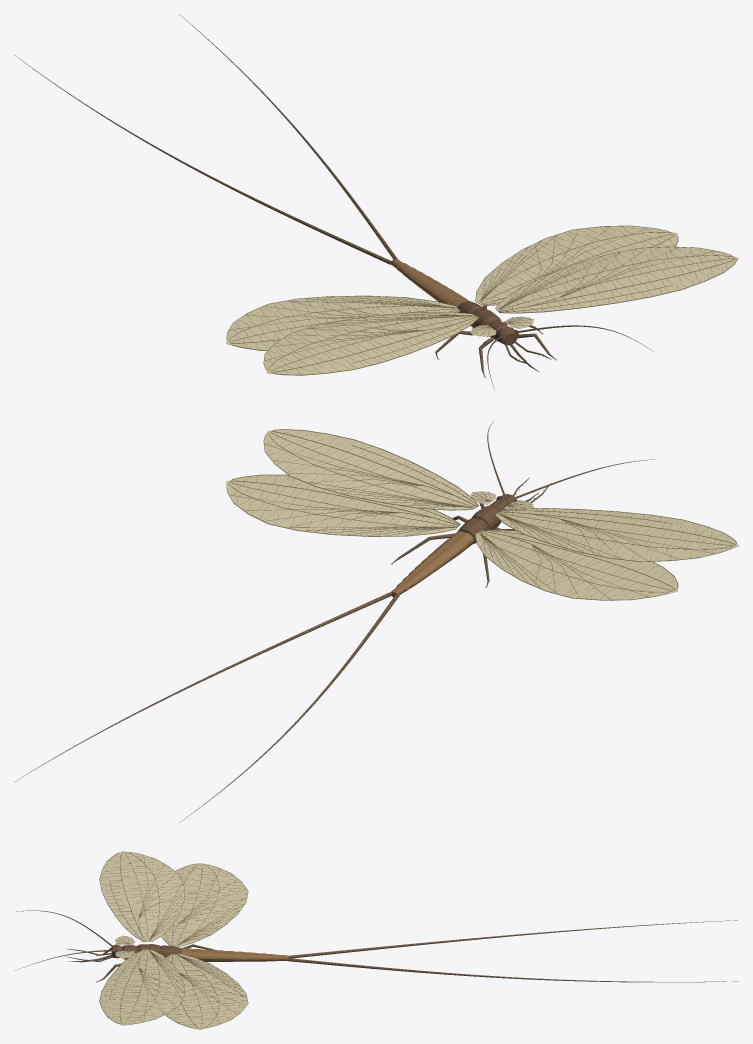
3 views of the same model, one above another, from view 1: azimuth 30°, elevation 25°; view 2: azimuth 150°, elevation 25°; view 3: azimuth 270°, elevation 25° (orthographic). The views are drawn at different scales.
Parts seen in each view (by area): view 1: Broad-flight-wings-and-small-prothoracic-lobes, Simplified-wing-venation, Six-walking-legs-and-separate-head-and-tail-appendages, Abdomen-ten-tergites, Head-and-three-thoracic-segments; view 2: Broad-flight-wings-and-small-prothoracic-lobes, Simplified-wing-venation, Six-walking-legs-and-separate-head-and-tail-appendages, Abdomen-ten-tergites, Head-and-three-thoracic-segments; view 3: Broad-flight-wings-and-small-prothoracic-lobes, Simplified-wing-venation, Six-walking-legs-and-separate-head-and-tail-appendages, Abdomen-ten-tergites, Head-and-three-thoracic-segments.
Part boxes in pixels (bbox=[...]): Broad-flight-wings-and-small-prothoracic-lobes: bbox=[226, 226, 738, 375]; Simplified-wing-venation: bbox=[33, 44, 737, 375]; Six-walking-legs-and-separate-head-and-tail-appendages: bbox=[14, 14, 654, 390]; Abdomen-ten-tergites: bbox=[391, 259, 468, 307]; Head-and-three-thoracic-segments: bbox=[408, 278, 517, 345]; Broad-flight-wings-and-small-prothoracic-lobes: bbox=[226, 430, 738, 600]; Simplified-wing-venation: bbox=[54, 429, 736, 800]; Six-walking-legs-and-separate-head-and-tail-appendages: bbox=[14, 420, 654, 822]; Abdomen-ten-tergites: bbox=[391, 531, 473, 595]; Head-and-three-thoracic-segments: bbox=[392, 494, 517, 597]; Broad-flight-wings-and-small-prothoracic-lobes: bbox=[100, 851, 247, 1029]; Simplified-wing-venation: bbox=[77, 852, 710, 1028]; Six-walking-legs-and-separate-head-and-tail-appendages: bbox=[14, 910, 738, 982]; Abdomen-ten-tergites: bbox=[180, 948, 288, 961]; Head-and-three-thoracic-segments: bbox=[111, 944, 277, 961].
Size of the model in its own units: 0.1984 by 0.0181 by 0.3488.
